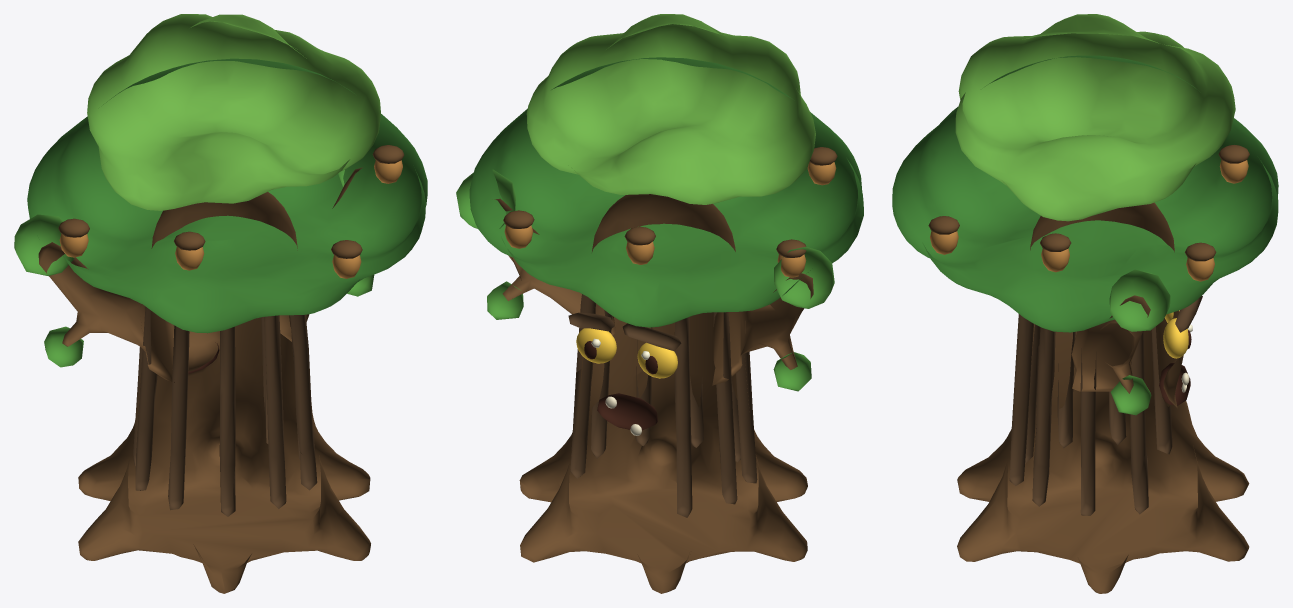
File: boss_giant_tree.glb
3 renders of one model, left to right at view 1: azimuth 30°, elevation 25°; view 2: azimuth 150°, elevation 25°; view 3: azimuth 270°, elevation 25°, orthographic.
Visible parts, largest first — view 1: extra, body, armL, armR; view 2: extra, body, armL, armR, eyes; view 3: extra, body, armR, eyes.
Boxes of the visible parts, <box> form: extra: <box>27,14,427,333</box>; body: <box>78,192,370,593</box>; armL: <box>14,214,174,382</box>; armR: <box>279,167,374,341</box>; extra: <box>469,14,863,327</box>; body: <box>519,194,807,593</box>; armL: <box>712,246,834,391</box>; armR: <box>456,169,615,335</box>; eyes: <box>576,328,677,378</box>; extra: <box>892,14,1278,332</box>; body: <box>957,202,1249,593</box>; armR: <box>1071,269,1170,415</box>; eyes: <box>1163,310,1188,358</box>.
Bounding box in the file's own units: 3.27 × 4.26 × 2.93.
Materials: 1 (1 with a texture image).
